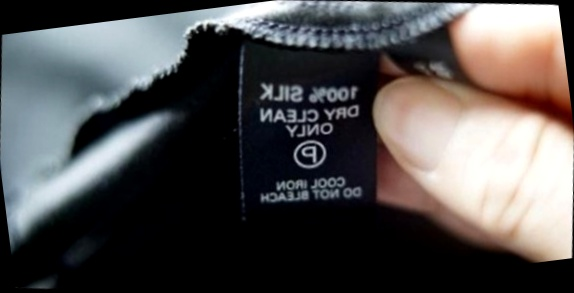dry_clean_any_solvent_except_trichloroethylene: (288, 134, 330, 173)
